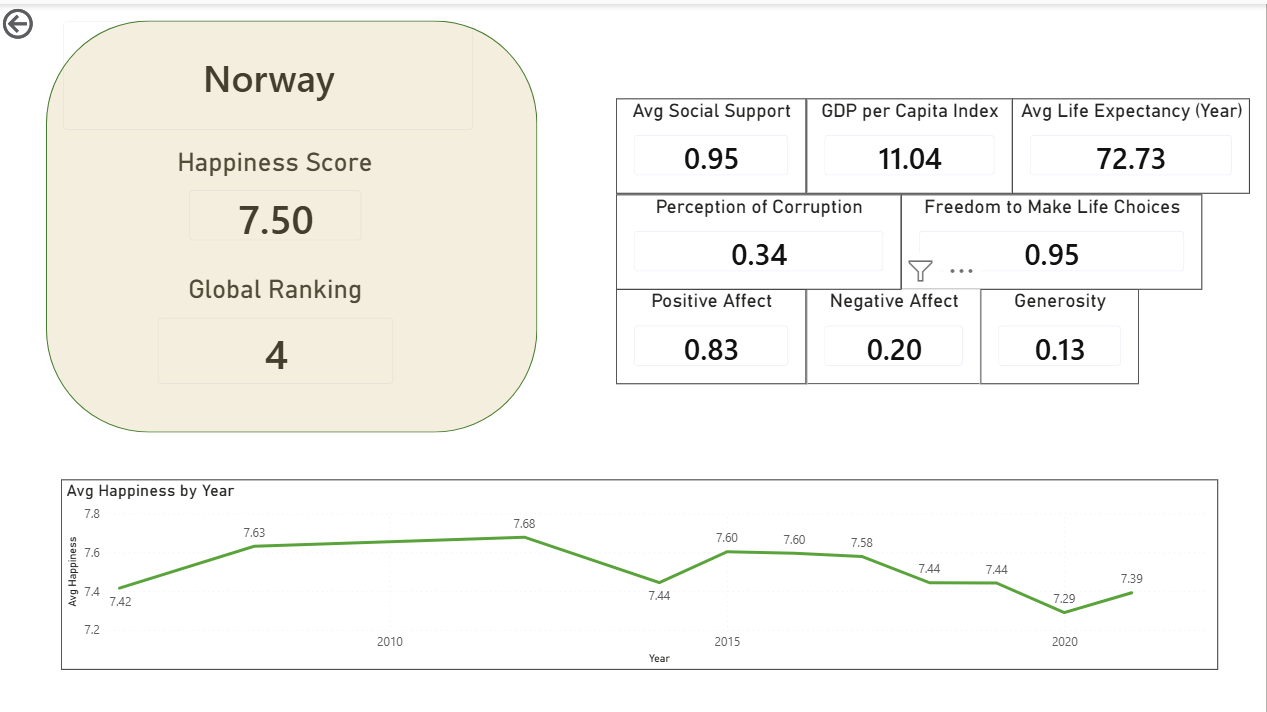

The page's visual inventory and layout, read from the dashboard file:
{"tool":"powerbi","page":{"name":"Country Detail ","canvas":[1280,720],"ordinal":9},"visuals":[{"type":"actionButton","box":[0,0,100,40],"z":0},{"type":"actionButton","box":[0,0,100,40],"z":1000},{"type":"cardVisual","title":"Avg Life Expectancy (Year)","fields":{"Data":["Measures (2).Avg Healthy Life Expectancy"]},"box":[1024,96,240,96],"z":2000},{"type":"cardVisual","title":"Happiness Score","fields":{"Data":["Measures (2).Avg Happiness"]},"box":[176,144,208,112],"z":3000},{"type":"cardVisual","title":"GDP per Capita Index","fields":{"Data":["Measures (2).Avg GDP per Capita"]},"box":[816,96,208,96],"z":4000},{"type":"cardVisual","title":"Avg Social Support","fields":{"Data":["Measures (2).Avg Social Support"]},"box":[624,96,192,96],"z":5000},{"type":"lineChart","fields":{"Y":["Measures (2).Avg Happiness"],"Category":["dim_year.Year"]},"box":[64,480,1168,192],"z":6000},{"type":"cardVisual","title":"Freedom to Make Life Choices","fields":{"Data":["Measures (2).Avg Freedom"]},"box":[912,192,304,96],"z":7000},{"type":"cardVisual","title":"Generosity","fields":{"Data":["Measures (2).Avg Generosity"]},"box":[992,288,160,96],"z":8000},{"type":"cardVisual","title":"Negative Affect","fields":{"Data":["Measures (2).Avg Negative Affect"]},"box":[816,288,176,96],"z":9000},{"type":"cardVisual","title":"Positive Affect","fields":{"Data":["Measures (2).Avg Positive Affect"]},"box":[624,288,192,96],"z":10000},{"type":"cardVisual","title":"Perception of Corruption","fields":{"Data":["Measures (2).Avg Corruption Perception"]},"box":[624,192,288,96],"z":11000},{"type":"cardVisual","title":"Avg Happiness Score","fields":{"Data":["Measures (2).Selected Country"]},"box":[48,0,448,144],"z":12000},{"type":"cardVisual","title":"Global Ranking","fields":{"Data":["Measures (2).Global Happiness Rank"]},"box":[144,272,272,128],"z":13000},{"type":"shape","box":[48,16,496,416],"z":14000}]}

Visuals, with their boxes in screenshot pixels (x1, y1, x2, y2), scaled from the page's 1280x720 canvas onto the 1267x712 screenshot:
actionButton: box=[0, 0, 99, 40]
actionButton: box=[0, 0, 99, 40]
"Avg Life Expectancy (Year)" cardVisual: box=[1014, 95, 1251, 190]
"Happiness Score" cardVisual: box=[174, 142, 380, 253]
"GDP per Capita Index" cardVisual: box=[808, 95, 1014, 190]
"Avg Social Support" cardVisual: box=[618, 95, 808, 190]
lineChart - Measures (2).Avg Happiness x dim_year.Year: box=[63, 475, 1219, 665]
"Freedom to Make Life Choices" cardVisual: box=[903, 190, 1204, 285]
"Generosity" cardVisual: box=[982, 285, 1140, 380]
"Negative Affect" cardVisual: box=[808, 285, 982, 380]
"Positive Affect" cardVisual: box=[618, 285, 808, 380]
"Perception of Corruption" cardVisual: box=[618, 190, 903, 285]
"Avg Happiness Score" cardVisual: box=[48, 0, 491, 142]
"Global Ranking" cardVisual: box=[143, 269, 412, 396]
shape: box=[48, 16, 538, 427]
